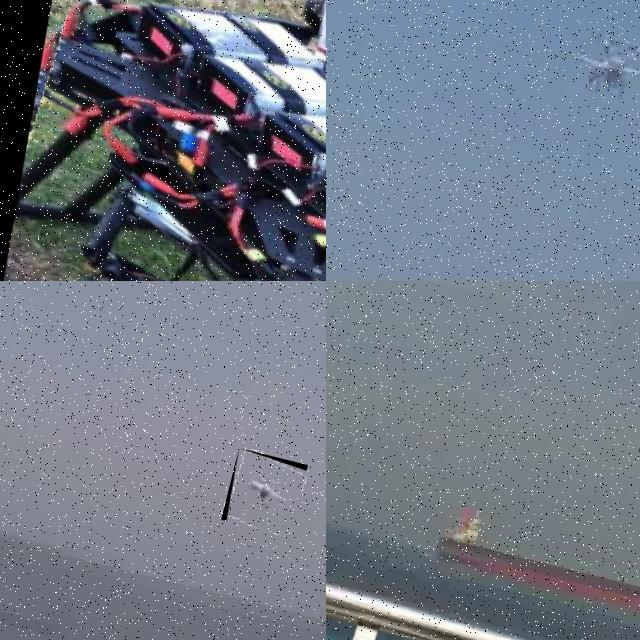0: (220, 448, 308, 536)
drone: (0, 0, 326, 281)
